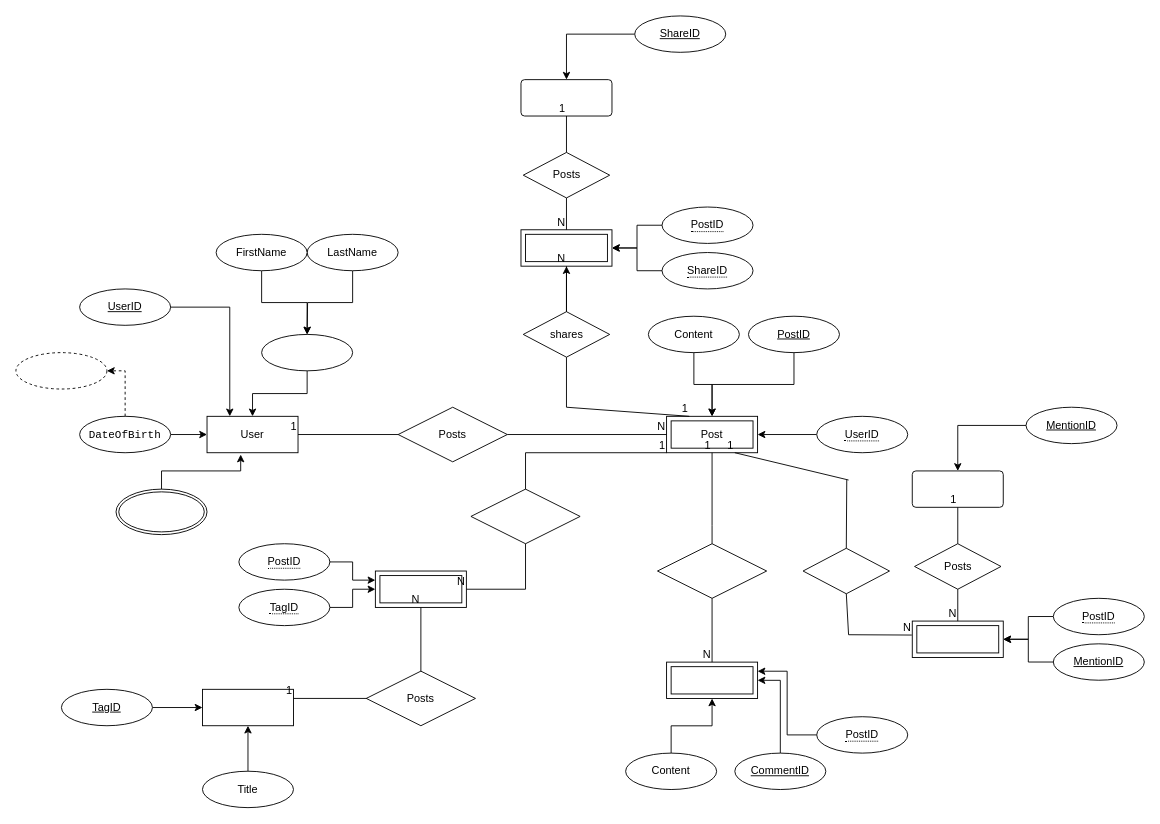
Some shapes in this 1160 by 824 pixel diagram are drawn without their labels. Here are the shapes that lost their labels. From the top down, the centre of each, then its label:
At point 566,97: "ٍShare".
At point 566,247: "PostShare".
At point 61,370: "Age".
At point 307,352: "FullName".
At point 957,488: "Mention".
At point 161,511: "PhoneNumbers".
At point 525,516: "Tags".
At point 420,588: "PostTag".
At point 712,570: "Comments".
At point 846,570: "Mentions".
At point 957,638: "PostMention".
At point 712,680: "Comment".
At point 247,707: "Tag".
